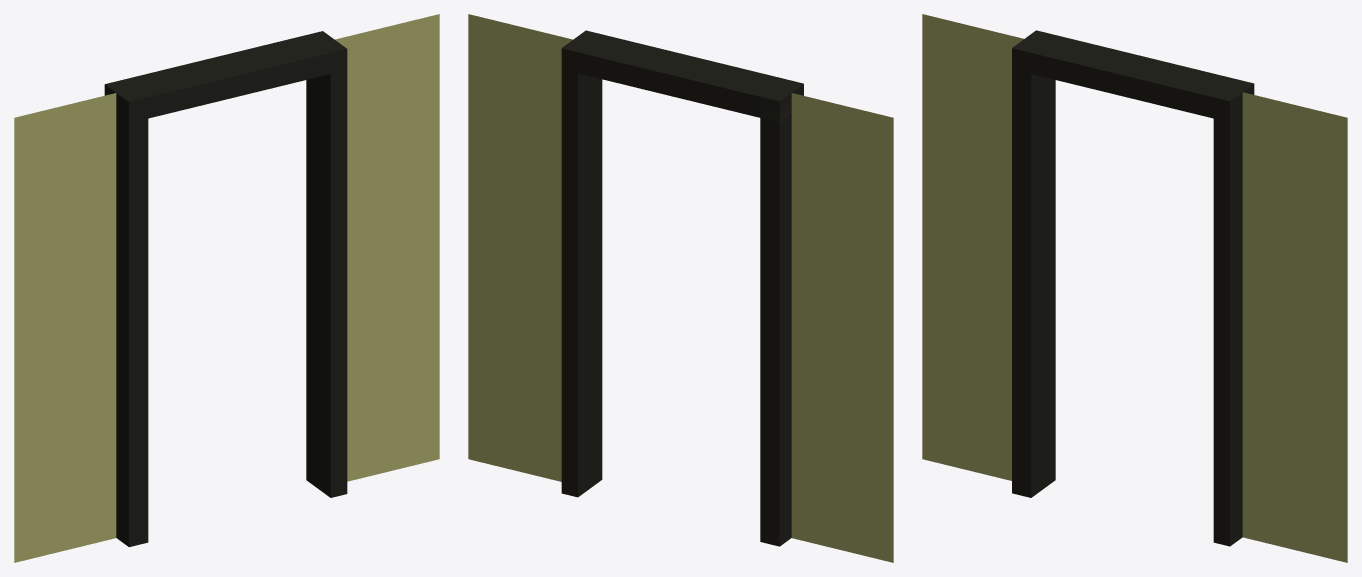
Rendered from SM_DoorFrame.fbx.
The picture shows the model from 3 angles, left to right: view 1: azimuth 30°, elevation 25°; view 2: azimuth 150°, elevation 25°; view 3: azimuth 330°, elevation 25°; orthographic projection.
Visible parts, largest first — view 1: polySurface1; view 2: polySurface1; view 3: polySurface1.
Part boxes in pixels (<box>): polySurface1: <box>14,14,439,562</box>; polySurface1: <box>468,14,893,562</box>; polySurface1: <box>922,14,1347,562</box>.
Size of the model in its own units: 2 by 2 by 0.1985.
